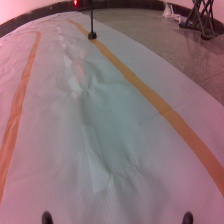red: (71, 1, 99, 40)
